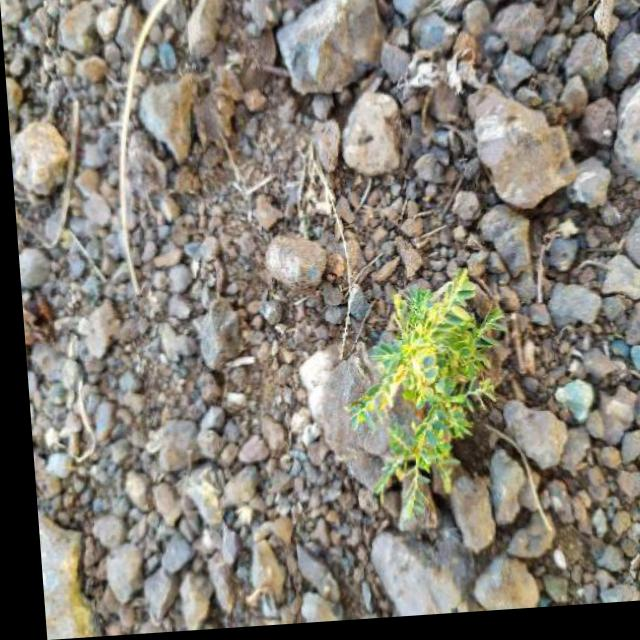weed: (338, 278, 519, 516)
